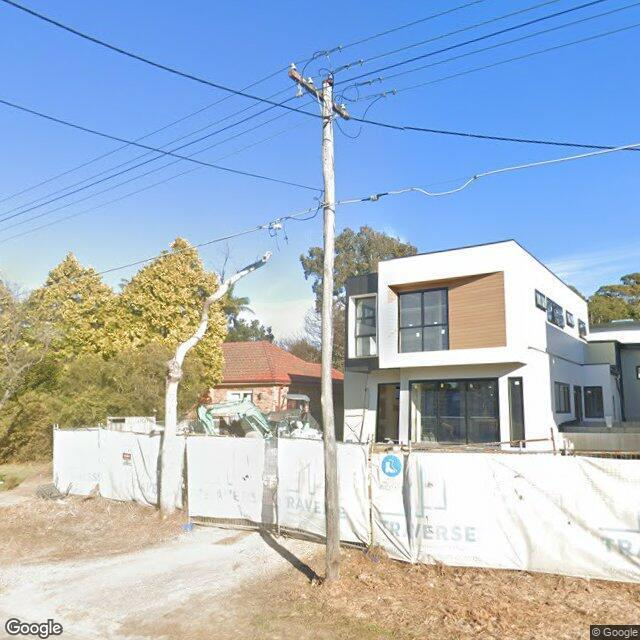crossarm: (286, 71, 350, 122)
timber-pole: (323, 78, 340, 559)
